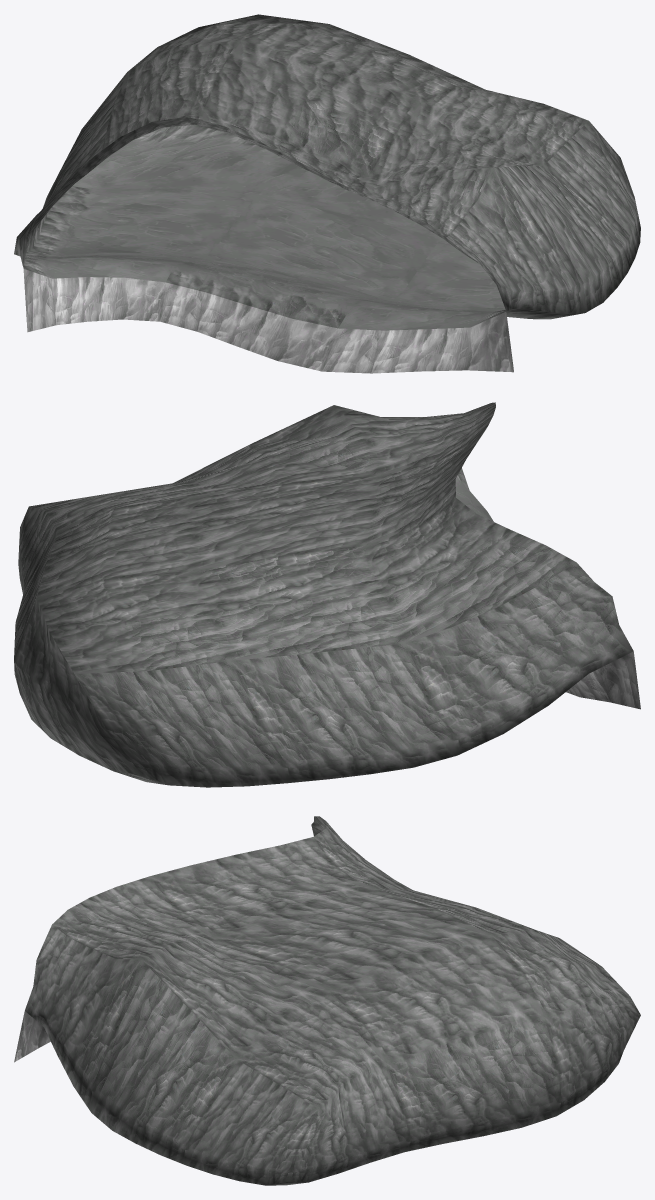
File: SWORDLIGHT20_PS-AREA03_10.fbx
3 renders of one model, top to bottom at view 1: azimuth 30°, elevation 25°; view 2: azimuth 150°, elevation 25°; view 3: azimuth 270°, elevation 25°, orthographic. The views are drawn at different scales.
Parts seen in each view (by area): view 1: SWORDLIGHT20_PS-AREA03_10; view 2: SWORDLIGHT20_PS-AREA03_10; view 3: SWORDLIGHT20_PS-AREA03_10.
Part boxes in pixels (x1,y1,x2,y2): SWORDLIGHT20_PS-AREA03_10: [14, 14, 640, 373]; SWORDLIGHT20_PS-AREA03_10: [14, 402, 640, 787]; SWORDLIGHT20_PS-AREA03_10: [14, 816, 640, 1185].
Size of the model in its own units: 242653 by 73458 by 247158.
6 materials, 6 textured.
